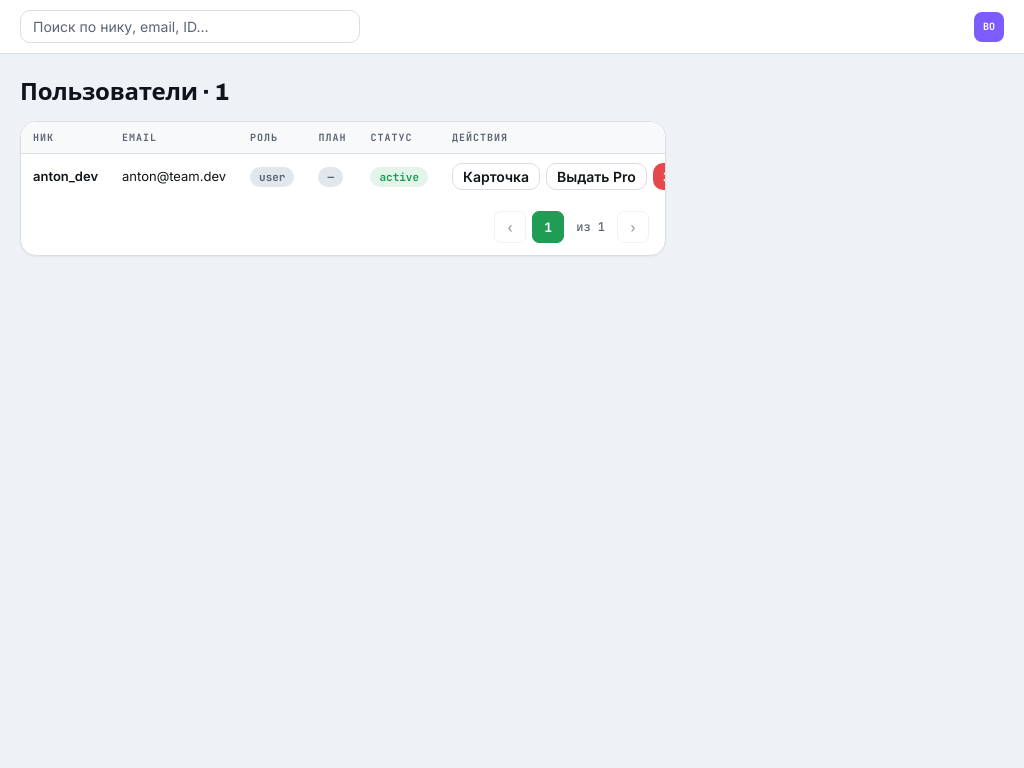
UsersPage Pro actions › «Выдать Pro» зовёт grant-pro эндпоинт с днями и оптимистично показывает Pro
The image size is (1024, 768).
Click the button "Выдать Pro": point(596, 176) [546,163,647,190]
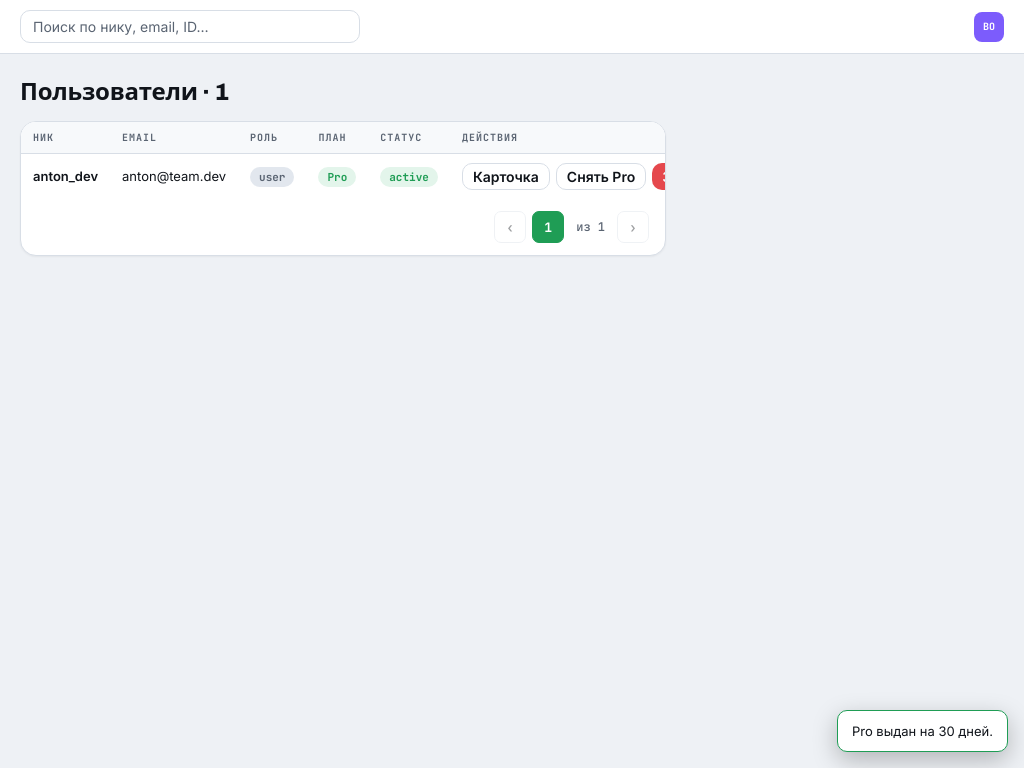
Result: the button "Снять Pro" is shown at [556,163,646,190]
